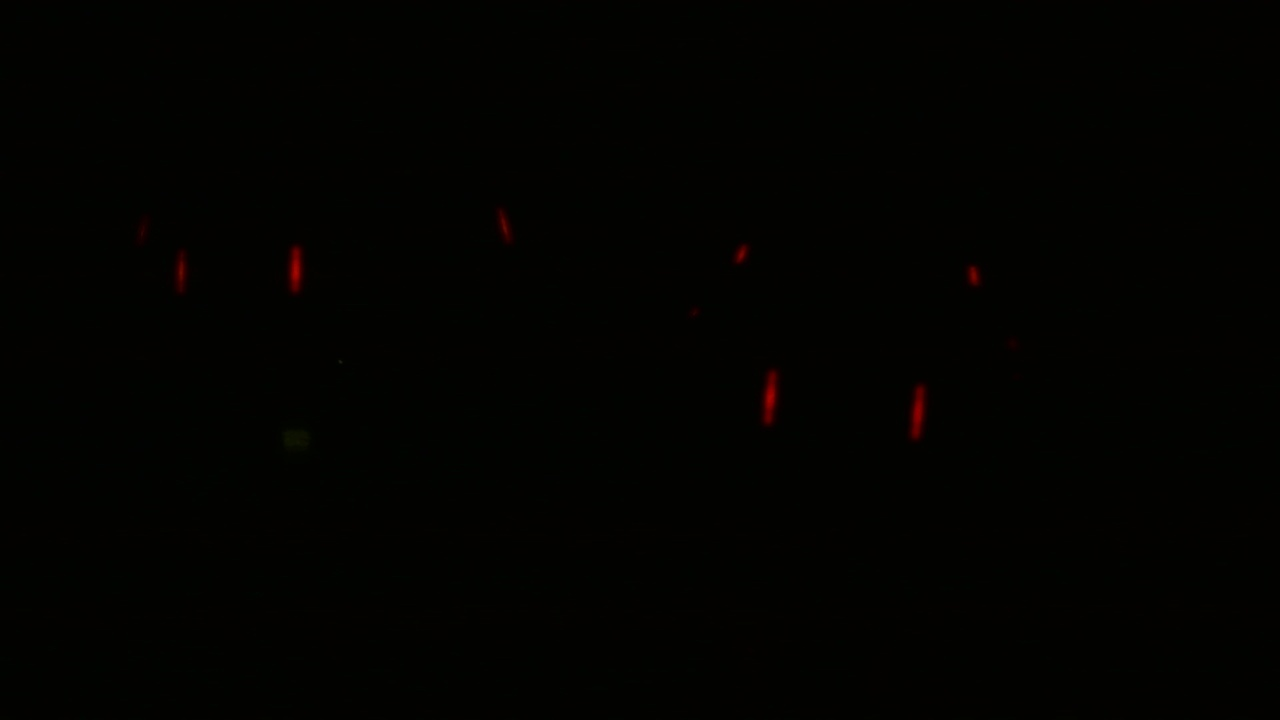pair1: (750, 361, 929, 450), (162, 226, 309, 308)
